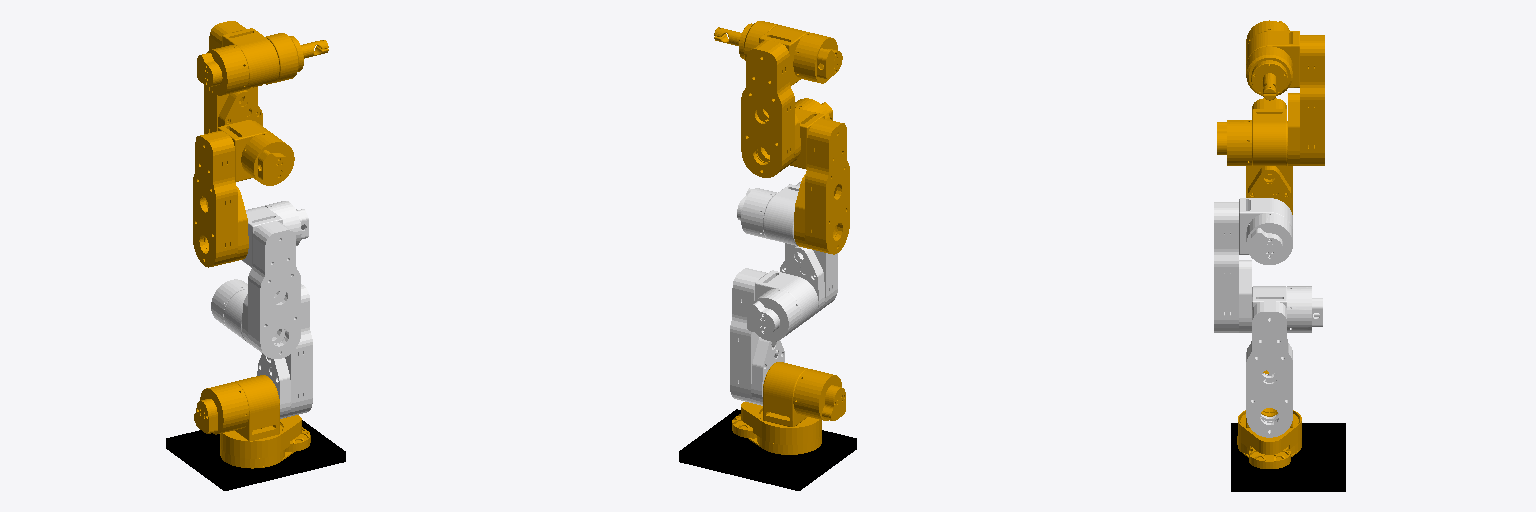
robot.urdf — adele_urdf_1:
<?xml version="1.0" encoding="utf-8"?>
<!-- This URDF was automatically created by SolidWorks to URDF Exporter! Originally created by [author] ([email redacted]) 
     Commit Version: 1.6.0-1-g15f4949  Build Version: 1.6.7594.29634
     For more information, please see http://wiki.ros.org/sw_urdf_exporter -->
<robot
  name="adele_urdf_1">
  <link
    name="base_link">
    <inertial>
      <origin
        xyz="-0.00038775 -0.0004149 0.012549"
        rpy="0 0 0" />
      <mass
        value="1.7961" />
      <inertia
        ixx="0.0096875"
        ixy="-0.00010468"
        ixz="3.448E-06"
        iyy="0.013889"
        iyz="3.6895E-06"
        izz="0.02339" />
    </inertial>
    <visual>
      <origin
        xyz="0 0 0"
        rpy="0 0 0" />
      <geometry>
        <mesh
          filename="package://adele_urdf_1/meshes/base_link.STL" />
      </geometry>
      <material
        name="">
        <color
          rgba="0 0 0 1" />
      </material>
    </visual>
    <collision>
      <origin
        xyz="0 0 0"
        rpy="0 0 0" />
      <geometry>
        <mesh
          filename="package://adele_urdf_1/meshes/base_link.STL" />
      </geometry>
    </collision>
  </link>
  <link
    name="link_1">
    <inertial>
      <origin
        xyz="0.021715 -1.1671E-09 0.018917"
        rpy="0 0 0" />
      <mass
        value="0.5576" />
      <inertia
        ixx="0.00077362"
        ixy="-7.564E-12"
        ixz="-1.6834E-05"
        iyy="0.00079177"
        iyz="3.082E-12"
        izz="0.0014984" />
    </inertial>
    <visual>
      <origin
        xyz="0 0 0"
        rpy="0 0 0" />
      <geometry>
        <mesh
          filename="package://adele_urdf_1/meshes/link_1.STL" />
      </geometry>
      <material
        name="">
        <color
          rgba="0.90588 0.63529 0 1" />
      </material>
    </visual>
    <collision>
      <origin
        xyz="0 0 0"
        rpy="0 0 0" />
      <geometry>
        <mesh
          filename="package://adele_urdf_1/meshes/link_1.STL" />
      </geometry>
    </collision>
  </link>
  <joint
    name="base_joint"
    type="fixed">
    <origin
      xyz="-0.0299609304893849 -0.0421709713738316 0.0249999987602389"
      rpy="0 0 0" />
    <parent
      link="base_link" />
    <child
      link="link_1" />
    <axis
      xyz="0 0 0" />
  </joint>
  <link
    name="link_2">
    <inertial>
      <origin
        xyz="-0.00946608000119067 -1.2068163925627E-05 0.0982578667649479"
        rpy="0 0 0" />
      <mass
        value="1.20054097225308" />
      <inertia
        ixx="0.00201947233992171"
        ixy="-1.64686049256727E-07"
        ixz="-3.64592823133029E-06"
        iyy="0.00190936196157968"
        iyz="-6.98758318609587E-07"
        izz="0.00199289212426803" />
    </inertial>
    <visual>
      <origin
        xyz="0 0 0"
        rpy="0 0 0" />
      <geometry>
        <mesh
          filename="package://adele_urdf_1/meshes/link_2.STL" />
      </geometry>
      <material
        name="">
        <color
          rgba="0.905882352941176 0.635294117647059 0 1" />
      </material>
    </visual>
    <collision>
      <origin
        xyz="0 0 0"
        rpy="0 0 0" />
      <geometry>
        <mesh
          filename="package://adele_urdf_1/meshes/link_2.STL" />
      </geometry>
    </collision>
  </link>
  <joint
    name="joint_1"
    type="continuous">
    <origin
      xyz="0 0 0"
      rpy="0 0 0" />
    <parent
      link="link_1" />
    <child
      link="link_2" />
    <axis
      xyz="0 0 -1" />
  </joint>
  <link
    name="link_3">
    <inertial>
      <origin
        xyz="0.0949472296187238 0.00600525066072677 0.153030042562841"
        rpy="0 0 0" />
      <mass
        value="1.62557266260008" />
      <inertia
        ixx="0.0074572472446285"
        ixy="-3.64634636379706E-06"
        ixz="-1.30605666518055E-05"
        iyy="0.00708731534001816"
        iyz="-4.97298626019905E-07"
        izz="0.00230220778574052" />
    </inertial>
    <visual>
      <origin
        xyz="0 0 0"
        rpy="0 0 0" />
      <geometry>
        <mesh
          filename="package://adele_urdf_1/meshes/link_3.STL" />
      </geometry>
      <material
        name="">
        <color
          rgba="0.96078431372549 0.96078431372549 0.964705882352941 1" />
      </material>
    </visual>
    <collision>
      <origin
        xyz="0 0 0"
        rpy="0 0 0" />
      <geometry>
        <mesh
          filename="package://adele_urdf_1/meshes/link_3.STL" />
      </geometry>
    </collision>
  </link>
  <joint
    name="joint_2"
    type="revolute">
    <origin
      xyz="-0.0483 0 0.1263"
      rpy="0 0 0" />
    <parent
      link="link_2" />
    <child
      link="link_3" />
    <axis
      xyz="-1 0 0" />
    <limit
      lower="-1.57"
      upper="1.57"
      effort="0"
      velocity="0" />
  </joint>
  <link
    name="link_4">
    <inertial>
      <origin
        xyz="0.0842508269161635 0.00472732276078493 0.151971355966426"
        rpy="0 0 0" />
      <mass
        value="1.62557266260007" />
      <inertia
        ixx="0.00745724724501772"
        ixy="-3.64634635640103E-06"
        ixz="-1.30604898358527E-05"
        iyy="0.00708731534001816"
        iyz="-4.97298680323451E-07"
        izz="0.00230220778535128" />
    </inertial>
    <visual>
      <origin
        xyz="0 0 0"
        rpy="0 0 0" />
      <geometry>
        <mesh
          filename="package://adele_urdf_1/meshes/link_4.STL" />
      </geometry>
      <material
        name="">
        <color
          rgba="0.96078431372549 0.96078431372549 0.964705882352941 1" />
      </material>
    </visual>
    <collision>
      <origin
        xyz="0 0 0"
        rpy="0 0 0" />
      <geometry>
        <mesh
          filename="package://adele_urdf_1/meshes/link_4.STL" />
      </geometry>
    </collision>
  </link>
  <joint
    name="joint_3"
    type="revolute">
    <origin
      xyz="0.049578 0.037604 0.20106"
      rpy="0 0 -1.5708" />
    <parent
      link="link_3" />
    <child
      link="link_4" />
    <axis
      xyz="-1 0 0" />
    <limit
      lower="-1.57"
      upper="1.57"
      effort="0"
      velocity="0" />
  </joint>
  <link
    name="link_5">
    <inertial>
      <origin
        xyz="0.0949472296187236 0.00600525066072749 0.153030042562838"
        rpy="0 0 0" />
      <mass
        value="1.62557266260008" />
      <inertia
        ixx="0.0074572472446285"
        ixy="-3.64634636379064E-06"
        ixz="-1.3060566651786E-05"
        iyy="0.00708731534001815"
        iyz="-4.97298625970647E-07"
        izz="0.00230220778574053" />
    </inertial>
    <visual>
      <origin
        xyz="0 0 0"
        rpy="0 0 0" />
      <geometry>
        <mesh
          filename="package://adele_urdf_1/meshes/link_5.STL" />
      </geometry>
      <material
        name="">
        <color
          rgba="0.905882352941176 0.635294117647059 0 1" />
      </material>
    </visual>
    <collision>
      <origin
        xyz="0 0 0"
        rpy="0 0 0" />
      <geometry>
        <mesh
          filename="package://adele_urdf_1/meshes/link_5.STL" />
      </geometry>
    </collision>
  </link>
  <joint
    name="joint_4"
    type="revolute">
    <origin
      xyz="0.037604 0.047022 0.19894"
      rpy="0 0 -1.5708" />
    <parent
      link="link_4" />
    <child
      link="link_5" />
    <axis
      xyz="-1 0 0" />
    <limit
      lower="-1.57"
      upper="1.57"
      effort="0"
      velocity="0" />
  </joint>
  <link
    name="link_6">
    <inertial>
      <origin
        xyz="0.11303274698715 0.00439754326362684 0.153440831764849"
        rpy="0 0 0" />
      <mass
        value="1.59785849274926" />
      <inertia
        ixx="0.00735773754641421"
        ixy="3.05006515332995E-06"
        ixz="2.83590075433729E-05"
        iyy="0.00701263930015728"
        iyz="-1.94387655967687E-06"
        izz="0.00224131785720291" />
    </inertial>
    <visual>
      <origin
        xyz="0 0 0"
        rpy="0 0 0" />
      <geometry>
        <mesh
          filename="package://adele_urdf_1/meshes/link_6.STL" />
      </geometry>
      <material
        name="">
        <color
          rgba="0.905882352941176 0.635294117647059 0 1" />
      </material>
    </visual>
    <collision>
      <origin
        xyz="0 0 0"
        rpy="0 0 0" />
      <geometry>
        <mesh
          filename="package://adele_urdf_1/meshes/link_6.STL" />
      </geometry>
    </collision>
  </link>
  <joint
    name="joint_5"
    type="revolute">
    <origin
      xyz="0.0483 0.065212 0.2"
      rpy="0 0 -1.5708" />
    <parent
      link="link_5" />
    <child
      link="link_6" />
    <axis
      xyz="-1 0 0" />
    <limit
      lower="-1.57"
      upper="1.57"
      effort="0"
      velocity="0" />
  </joint>
  <link
    name="link_7">
    <inertial>
      <origin
        xyz="0.156332054157634 -1.37676720579627E-08 9.5567196056745E-07"
        rpy="0 0 0" />
      <mass
        value="0.245667965158845" />
      <inertia
        ixx="0.000292839789614645"
        ixy="5.45042400305886E-11"
        ixz="-1.2036401502341E-08"
        iyy="0.000224295830715086"
        iyz="6.66507572450264E-11"
        izz="0.000223856151587736" />
    </inertial>
    <visual>
      <origin
        xyz="0 0 0"
        rpy="0 0 0" />
      <geometry>
        <mesh
          filename="package://adele_urdf_1/meshes/link_7.STL" />
      </geometry>
      <material
        name="">
        <color
          rgba="0.905882352941176 0.635294117647059 0 1" />
      </material>
    </visual>
    <collision>
      <origin
        xyz="0 0 0"
        rpy="0 0 0" />
      <geometry>
        <mesh
          filename="package://adele_urdf_1/meshes/link_7.STL" />
      </geometry>
    </collision>
  </link>
  <joint
    name="joint_6"
    type="continuous">
    <origin
      xyz="0.065212 0.065212 0.2"
      rpy="0 0 -1.5708" />
    <parent
      link="link_6" />
    <child
      link="link_7" />
    <axis
      xyz="-1 0 0" />
    <limit
      lower="0"
      upper="0"
      effort="0"
      velocity="0" />
  </joint>
</robot>

--- Facts derived from the render (not from the file) ---
Views: 3 orthographic renders of the robot side by side, from view 1: azimuth 30°, elevation 25°; view 2: azimuth 150°, elevation 25°; view 3: azimuth 270°, elevation 25°.
Model adele_urdf_1 with 8 links and 7 joints (4 revolute, 2 continuous, 1 fixed), rooted at base_link, posed every joint at zero.
Links seen in each view (by area): view 1: link_5, link_4, link_6, base_link, link_3, link_2, link_1, link_7; view 2: link_6, link_3, link_5, base_link, link_4, link_2, link_1, link_7; view 3: link_3, link_4, link_6, link_5, base_link, link_1, link_7.
Boxes of the visible links, <box> form: link_5: <box>193,120,294,267</box>; link_4: <box>242,201,308,358</box>; link_6: <box>197,21,279,133</box>; base_link: <box>166,420,345,490</box>; link_3: <box>211,279,312,418</box>; link_2: <box>194,375,282,440</box>; link_1: <box>220,415,310,468</box>; link_7: <box>266,33,328,82</box>; link_6: <box>741,25,842,177</box>; link_3: <box>730,268,818,405</box>; link_5: <box>765,98,849,254</box>; base_link: <box>679,409,856,490</box>; link_4: <box>737,182,837,313</box>; link_2: <box>760,362,845,427</box>; link_1: <box>732,402,821,454</box>; link_7: <box>714,21,777,60</box>; link_3: <box>1246,286,1322,437</box>; link_4: <box>1214,198,1292,332</box>; link_6: <box>1246,20,1324,165</box>; link_5: <box>1217,98,1292,214</box>; base_link: <box>1231,423,1345,491</box>; link_1: <box>1237,410,1301,468</box>; link_7: <box>1246,46,1292,100</box>.
Bounding box of the posed robot: 0.3058 × 0.2853 × 1 m (x, y, z).
Meshes: 8 distinct files referenced, 8 mesh visuals loaded (8 binary STL).
